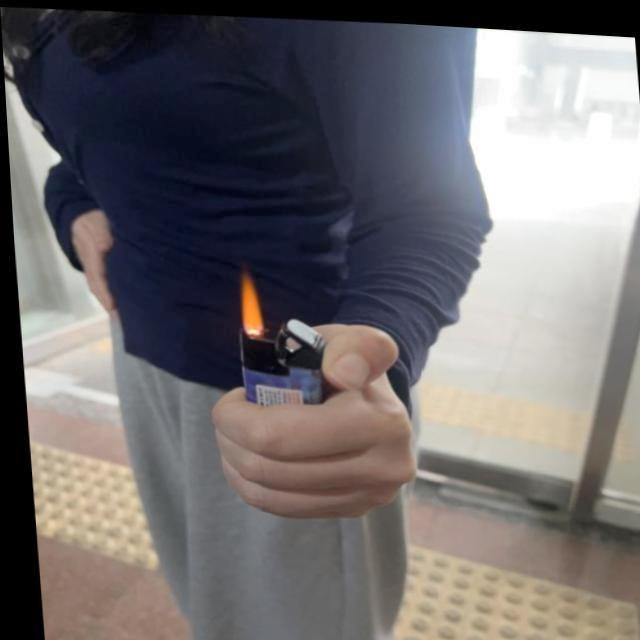fire: (232, 264, 256, 334)
